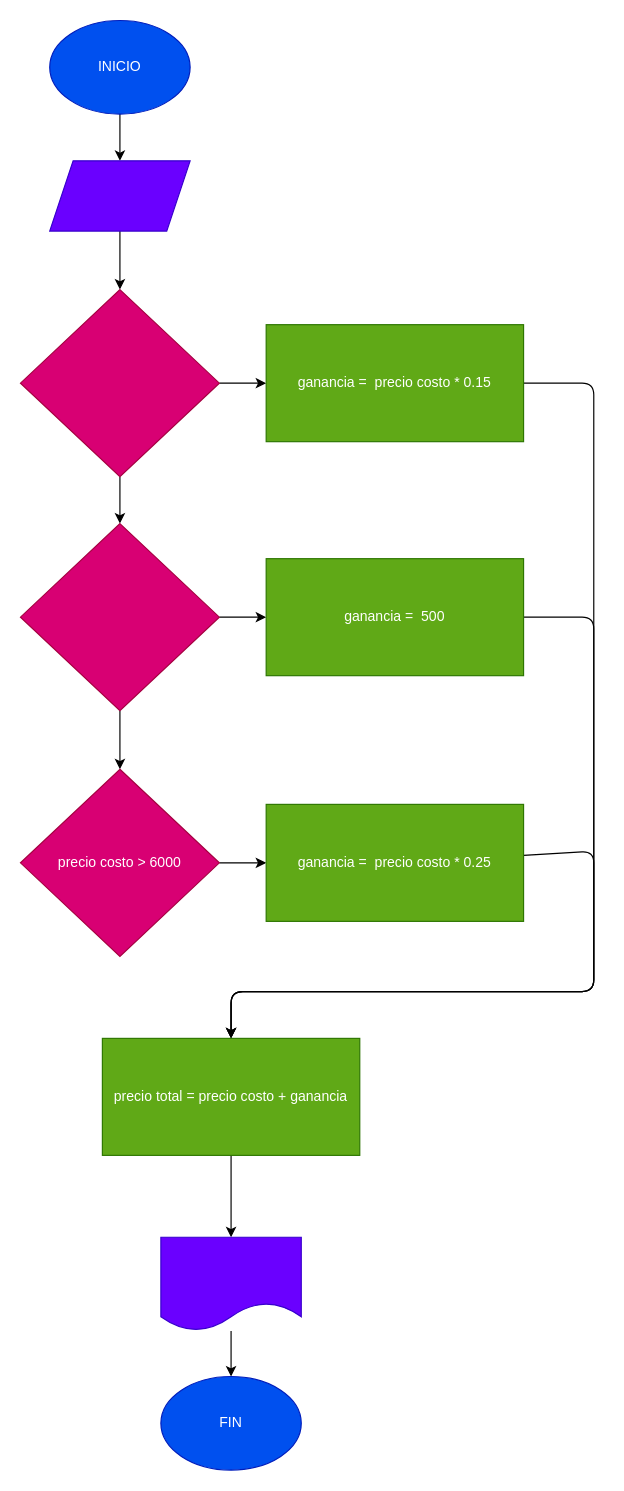
Some shapes in this 624 by 1491 pixel diagram are drawn without their labels. Here are the shapes that lost their labels. From the top down, the box of each, then its label:
(49, 160, 190, 231): precio costo
(19, 288, 219, 477): precio costo < 3000
(19, 522, 219, 711): 3000 >= precio costo <= 6000
(160, 1236, 301, 1331): precdio total
